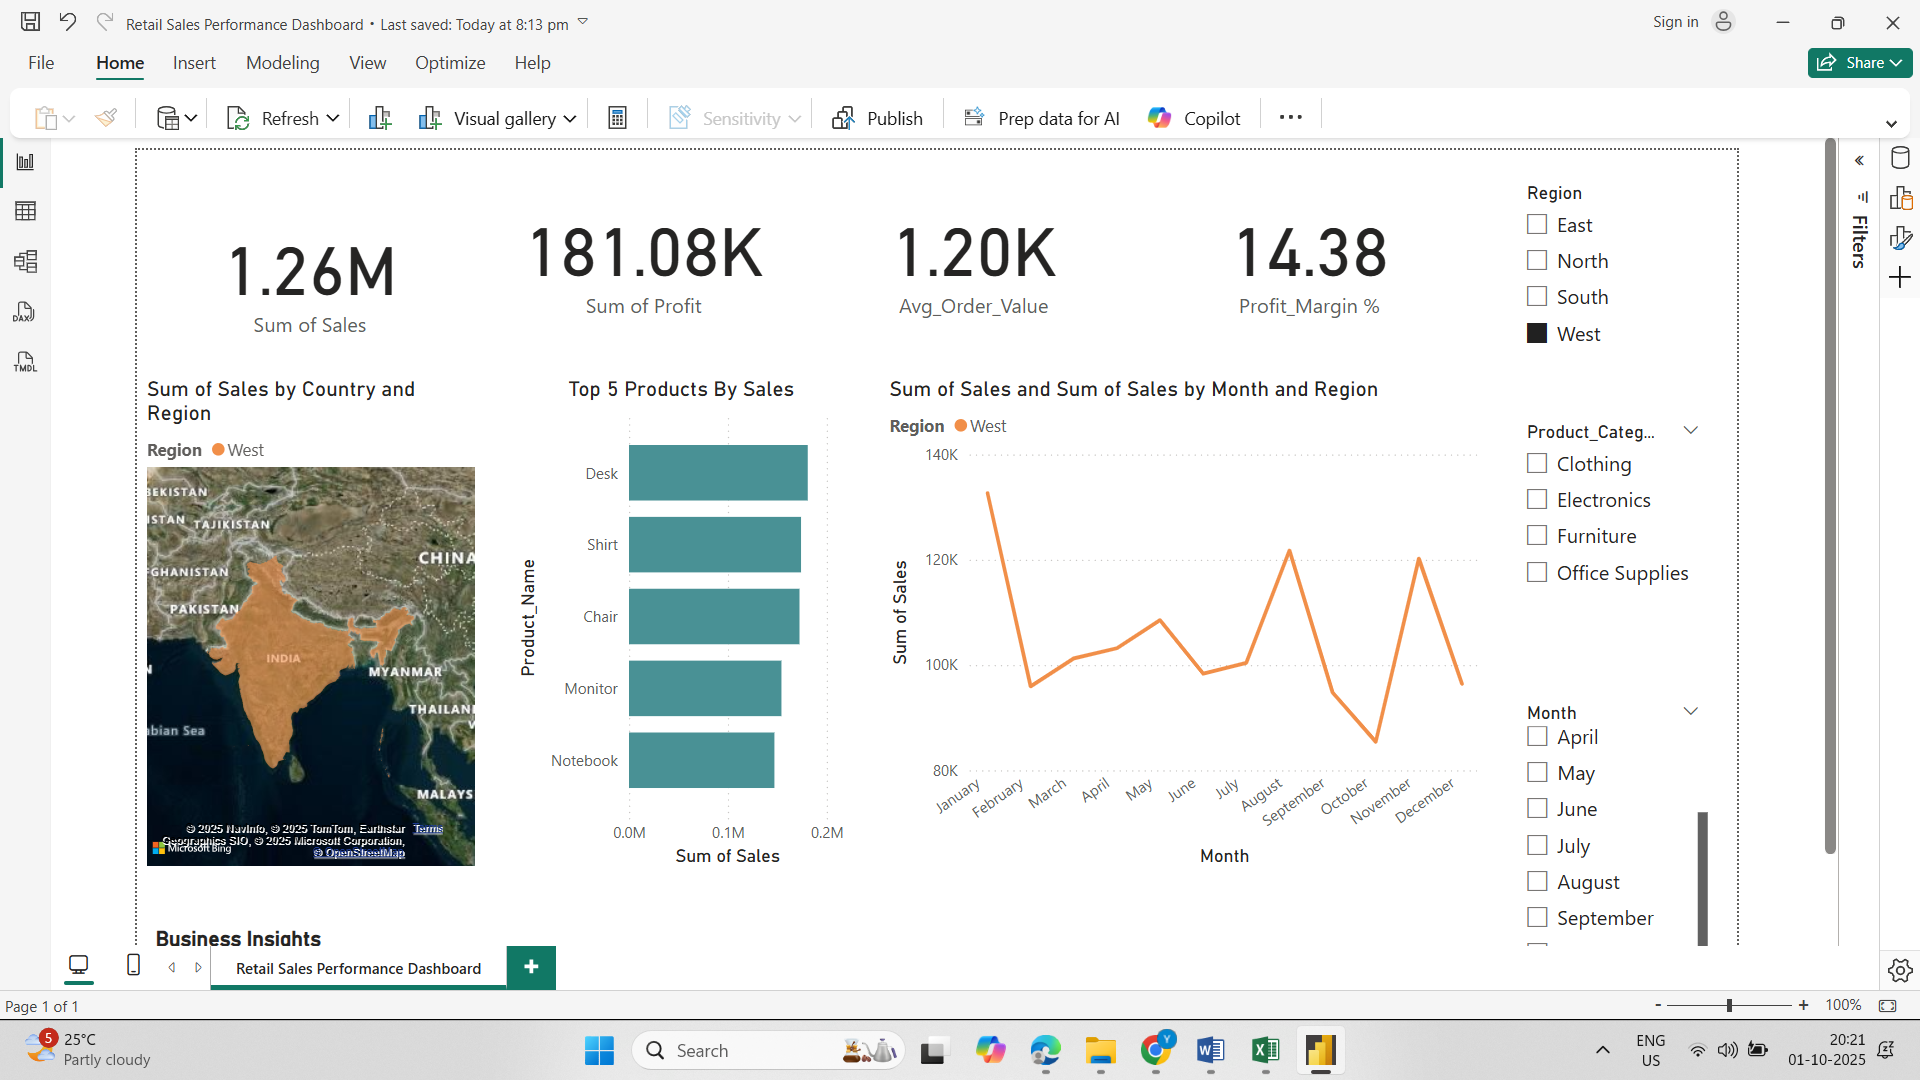

Layout of this report page (visuals, bound fields, positions):
{"tool":"powerbi","page":{"name":"Retail Sales Performance Dashboard","canvas":[1280,720],"ordinal":0},"visuals":[{"type":"card","fields":{"Values":["Sum(Retail_Sales_Dashboard_Dataset_.Sales)"]},"box":[10.1,21.4,257,160.1],"z":0},{"type":"card","fields":{"Values":["Sum(Retail_Sales_Dashboard_Dataset_.Profit)"]},"box":[281.8,21.4,246.8,129.6],"z":1},{"type":"card","fields":{"Values":["Retail_Sales_Dashboard_Dataset_.Avg_Order_Value"]},"box":[551.2,21.4,236.7,129.6],"z":2},{"type":"card","fields":{"Values":["Retail_Sales_Dashboard_Dataset_.Profit_Margin %"]},"box":[818.3,21.4,240.1,129.6],"z":3},{"type":"filledMap","fields":{"Category":["Retail_Sales_Dashboard_Dataset_.Country"],"Series":["Retail_Sales_Dashboard_Dataset_.Region"]},"box":[3.4,181.5,271.6,396.7],"z":4},{"type":"clusteredBarChart","title":"Top 5 Products By Sales","fields":{"Category":["Retail_Sales_Dashboard_Dataset_.Product_Name"],"Y":["Sum(Retail_Sales_Dashboard_Dataset_.Sales)"]},"box":[299.8,181.5,271.6,396.7],"z":5},{"type":"lineChart","fields":{"Category":["Retail_Sales_Dashboard_Dataset_.Order_Date.Variation.Date Hierarchy.Month"],"Y":["Sum(Retail_Sales_Dashboard_Dataset_.Sales)"],"Series":["Retail_Sales_Dashboard_Dataset_.Region"]},"box":[597.4,181.5,481.3,396.7],"z":6},{"type":"slicer","fields":{"Values":["Retail_Sales_Dashboard_Dataset_.Region"]},"box":[1098.9,21.4,163.4,160.1],"z":8},{"type":"slicer","fields":{"Values":["Retail_Sales_Dashboard_Dataset_.Product_Category"]},"box":[1098.9,211.9,163.4,172.4],"z":9},{"type":"slicer","fields":{"Values":["Retail_Sales_Dashboard_Dataset_.Order_Date.Variation.Date Hierarchy.Month"]},"box":[1098.9,437.3,163.4,282.9],"z":10},{"type":"textbox","title":"Business Insights","box":[10.1,621,1068.5,99.2],"z":11}]}

Visuals, with their boxes on the page's 1280x720 design canvas (x1, y1, x2, y2). These are canvas units, not pixel positions in the 1920x1080 screenshot, which may show the page scaled, cropped or inside an application window:
card - Sum(Retail_Sales_Dashboard_Dataset_.Sales): x1=10 y1=21 x2=267 y2=182
card - Sum(Retail_Sales_Dashboard_Dataset_.Profit): x1=282 y1=21 x2=529 y2=151
card - Retail_Sales_Dashboard_Dataset_.Avg_Order_Value: x1=551 y1=21 x2=788 y2=151
card - Retail_Sales_Dashboard_Dataset_.Profit_Margin %: x1=818 y1=21 x2=1058 y2=151
filledMap - Retail_Sales_Dashboard_Dataset_.Country x Retail_Sales_Dashboard_Dataset_.Region: x1=3 y1=182 x2=275 y2=578
"Top 5 Products By Sales" clusteredBarChart: x1=300 y1=182 x2=571 y2=578
lineChart - Retail_Sales_Dashboard_Dataset_.Order_Date.Variation.Date Hierarchy.Month x Sum(Retail_Sales_Dashboard_Dataset_.Sales): x1=597 y1=182 x2=1079 y2=578
slicer - Retail_Sales_Dashboard_Dataset_.Region: x1=1099 y1=21 x2=1262 y2=182
slicer - Retail_Sales_Dashboard_Dataset_.Product_Category: x1=1099 y1=212 x2=1262 y2=384
slicer - Retail_Sales_Dashboard_Dataset_.Order_Date.Variation.Date Hierarchy.Month: x1=1099 y1=437 x2=1262 y2=720
"Business Insights" textbox: x1=10 y1=621 x2=1079 y2=720
